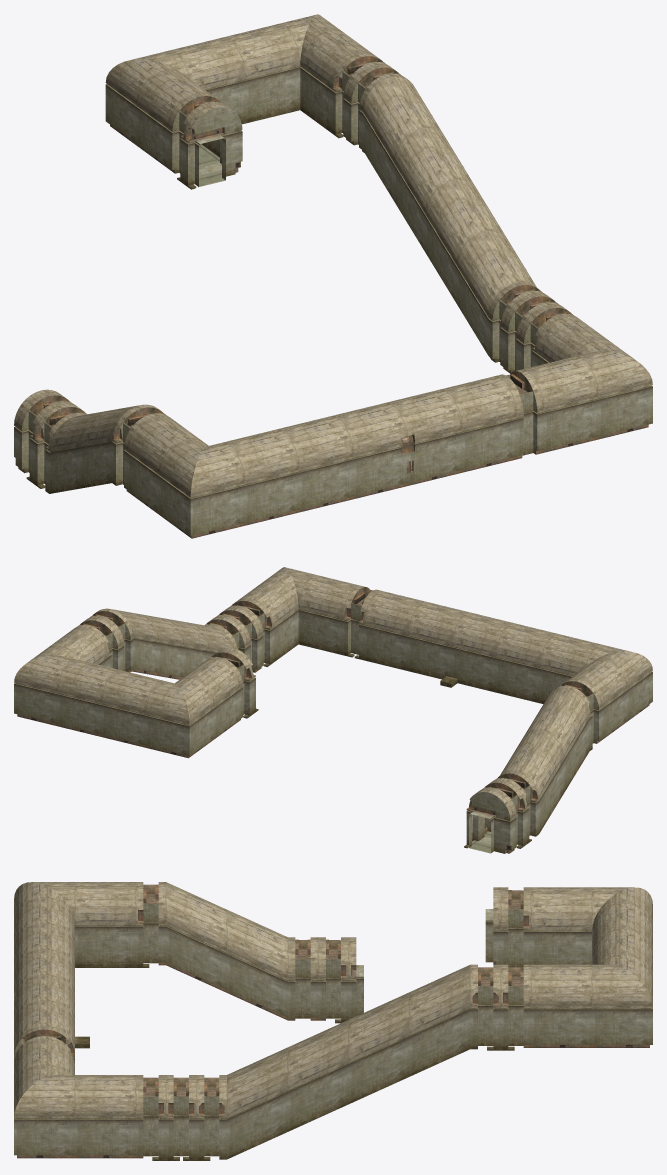
Rendered from poi_all_bunker_allum_mine_r22_hall22_mesh_r22.fbx.
3 renders of one model, top to bottom at view 1: azimuth 30°, elevation 25°; view 2: azimuth 150°, elevation 25°; view 3: azimuth 270°, elevation 25°, orthographic. The views are drawn at different scales.
Visible parts, largest first — view 1: mesh_node; view 2: mesh_node; view 3: mesh_node.
Boxes of the visible parts, x1=… form: mesh_node: x1=14, y1=14, x2=652, y2=538; mesh_node: x1=14, y1=567, x2=652, y2=853; mesh_node: x1=14, y1=882, x2=652, y2=1160.
Bounding box in the file's own units: 34 × 17.1 × 42.
